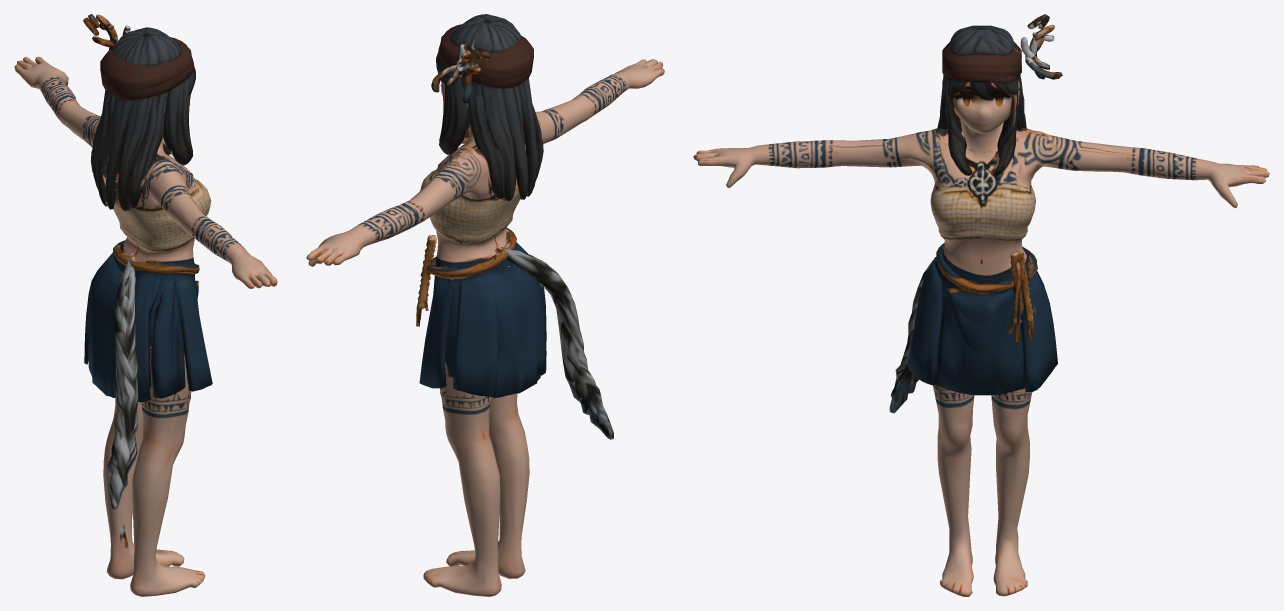
The model's file is observer_A_v2.fbx.
3 renders of one model, left to right at view 1: azimuth 30°, elevation 25°; view 2: azimuth 150°, elevation 25°; view 3: azimuth 270°, elevation 25°, orthographic. The views are drawn at different scales.
Visible parts, largest first — view 1: tripo_node_891a346d; view 2: tripo_node_891a346d; view 3: tripo_node_891a346d.
Part boxes in pixels (bbox=[...]): tripo_node_891a346d: bbox=[14, 14, 277, 596]; tripo_node_891a346d: bbox=[306, 14, 664, 596]; tripo_node_891a346d: bbox=[693, 14, 1269, 596].
Bounding box in the file's own units: 23.33 × 89.85 × 94.6.
1 material, 1 textured.
